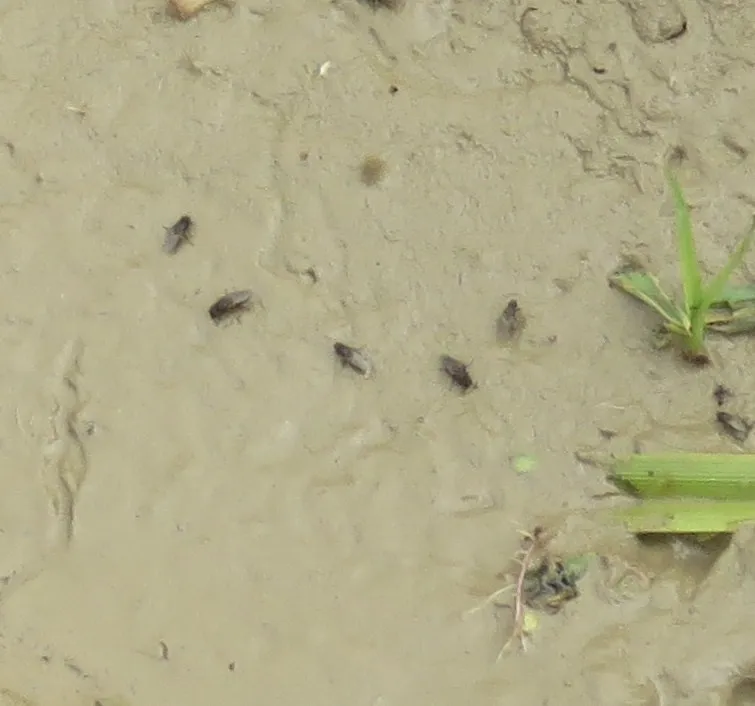Ephydridae: (206, 284, 253, 329), (433, 351, 475, 392), (161, 211, 196, 259), (330, 343, 370, 379), (499, 297, 528, 343)
